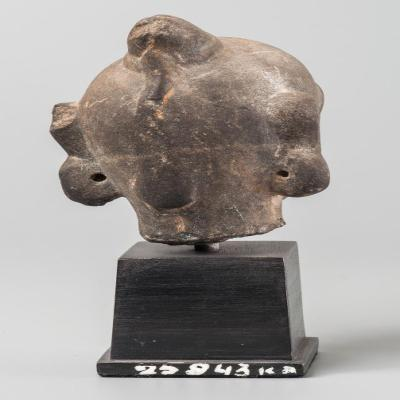sculpture: (49, 14, 332, 380)
